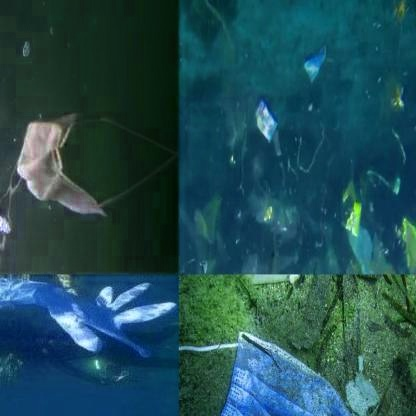Mask: (178, 328, 416, 416), (13, 98, 178, 222), (301, 38, 330, 86), (255, 97, 278, 143)
glove: (2, 276, 178, 359)
